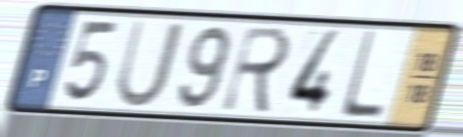4: (283, 25, 345, 120)
5: (62, 18, 121, 105)
9: (174, 23, 235, 111)
L: (336, 28, 385, 122)
R: (217, 24, 295, 117)
U: (112, 17, 187, 111)
